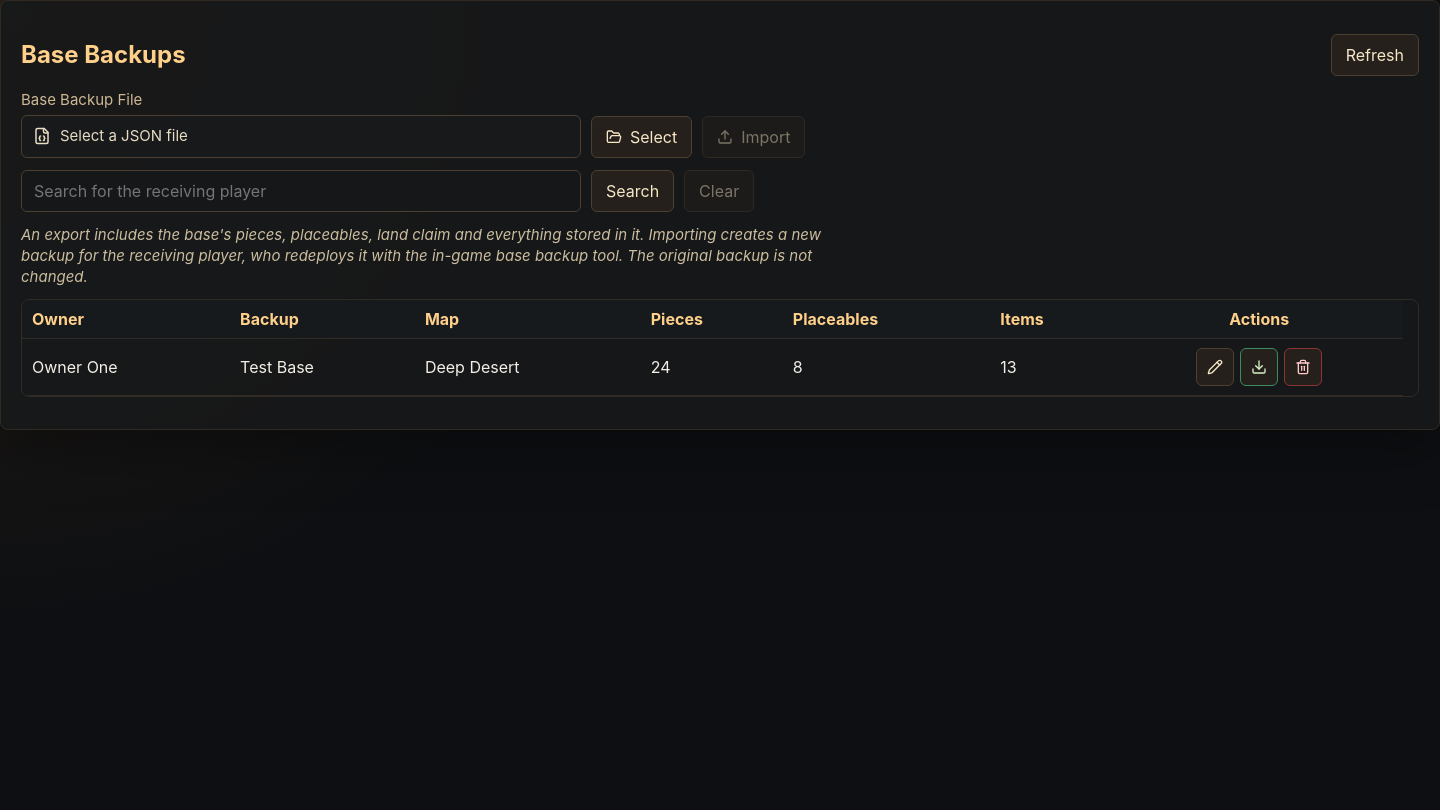
it: BaseBackupsView › editing owner and name › renames a backup after confirmation, with Save gated on a real change
Click the button named "Edit Test Base".
click(1215, 367)  # box [1196, 348, 1234, 386]
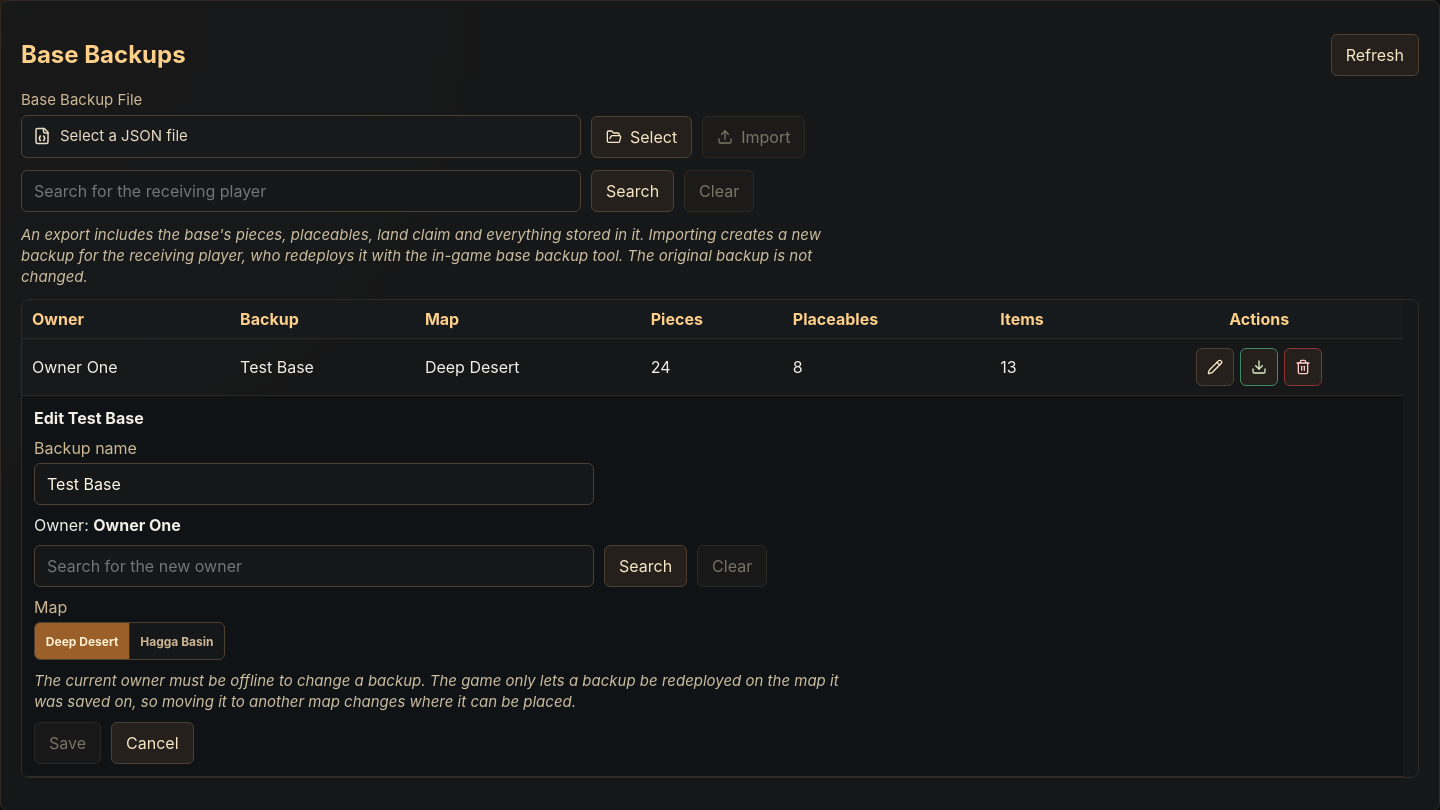
Now the button "Save" is disabled, box [34, 722, 101, 764]
Now the field labelled "Backup name" holds "Test Base"
Replace the text in the field labelled "Backup name" with "  North Wall " at (314, 484), box [34, 463, 594, 505]
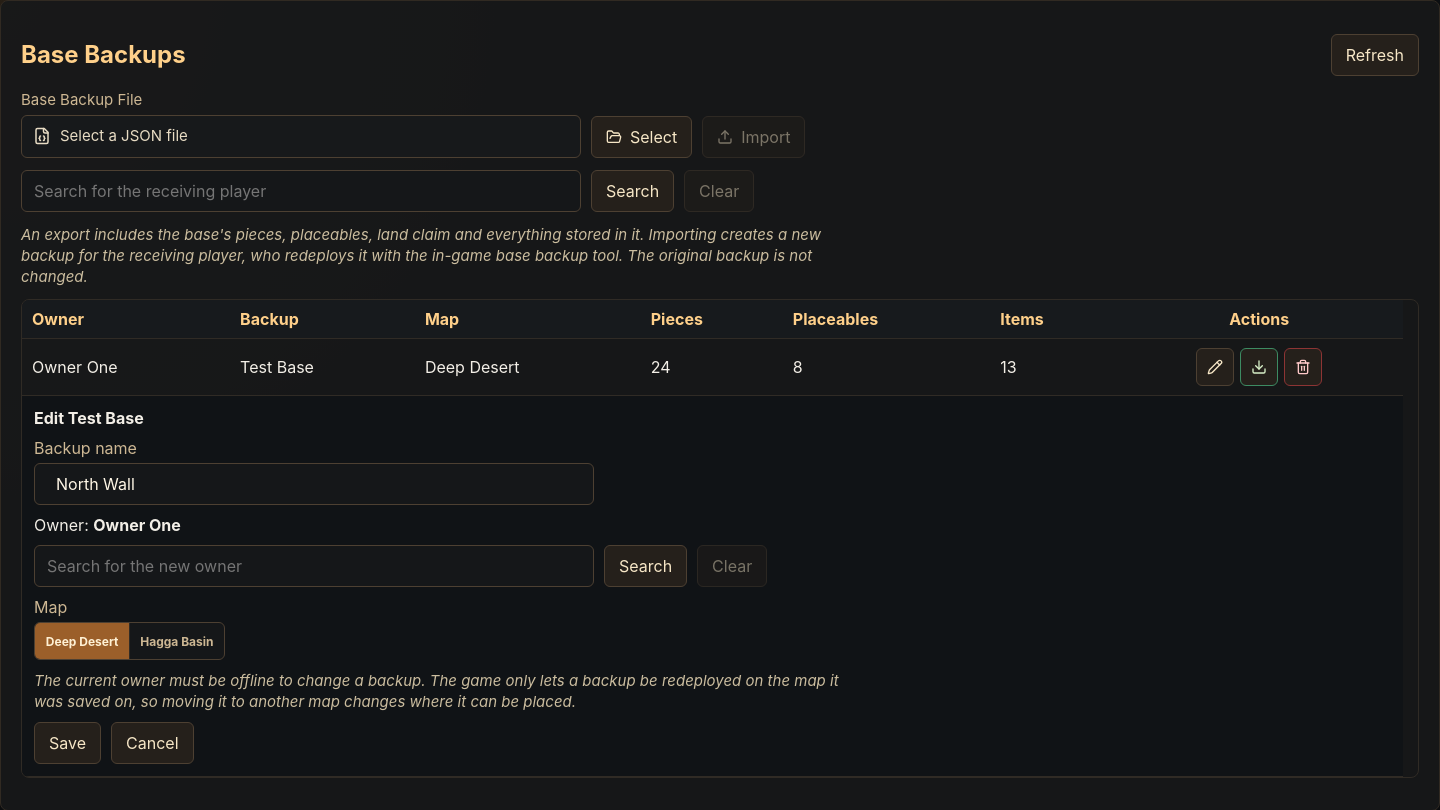
Now the button "Save" is enabled
Click the button "Save".
click(68, 743)  # box [34, 722, 101, 764]
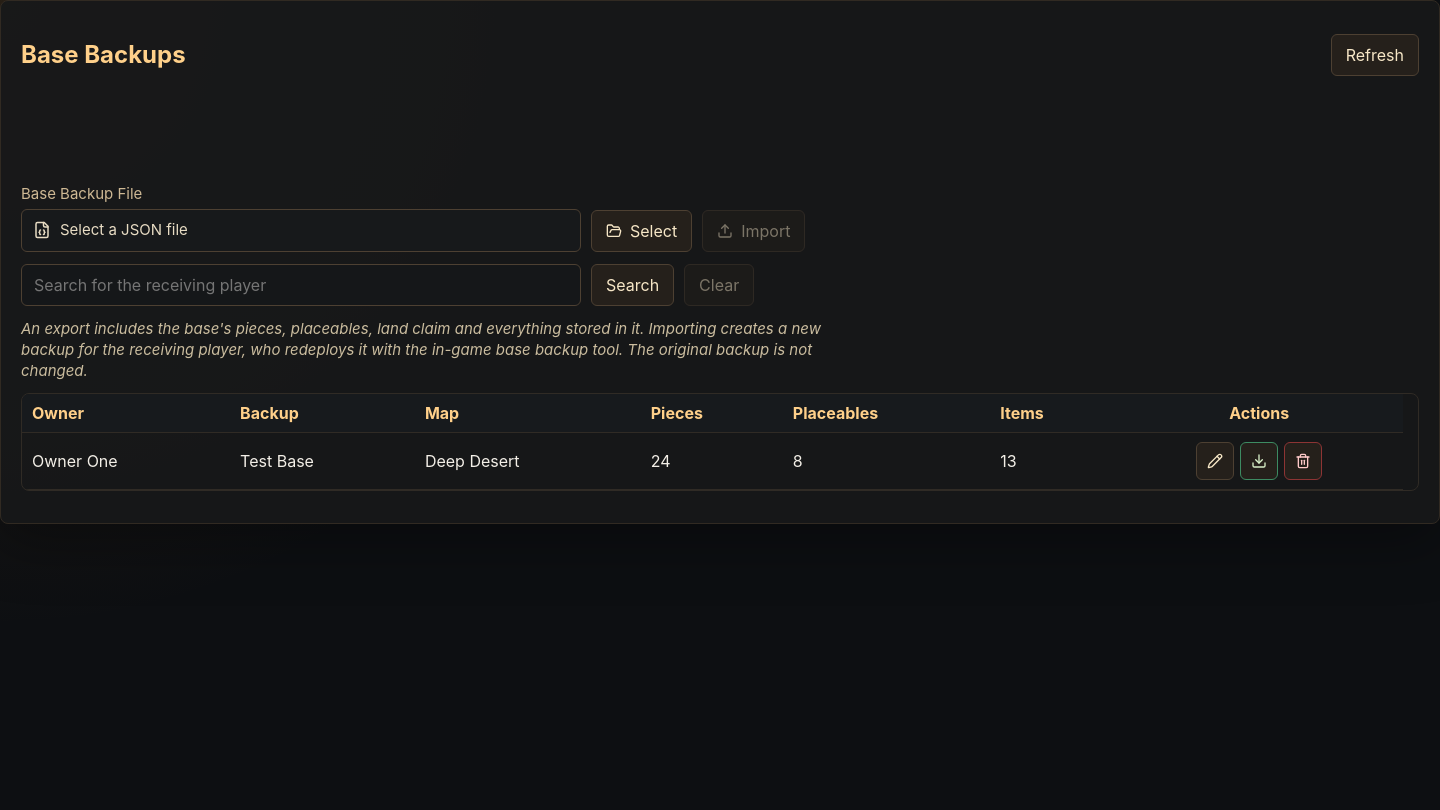
Now the text "Edit Test Base" is gone
